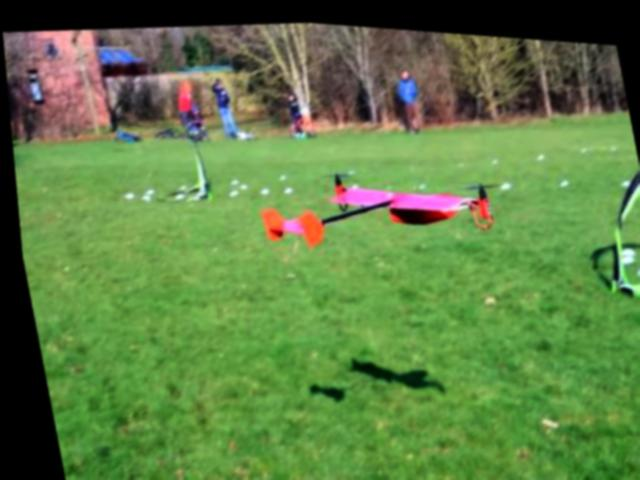uav: (240, 139, 514, 276)
